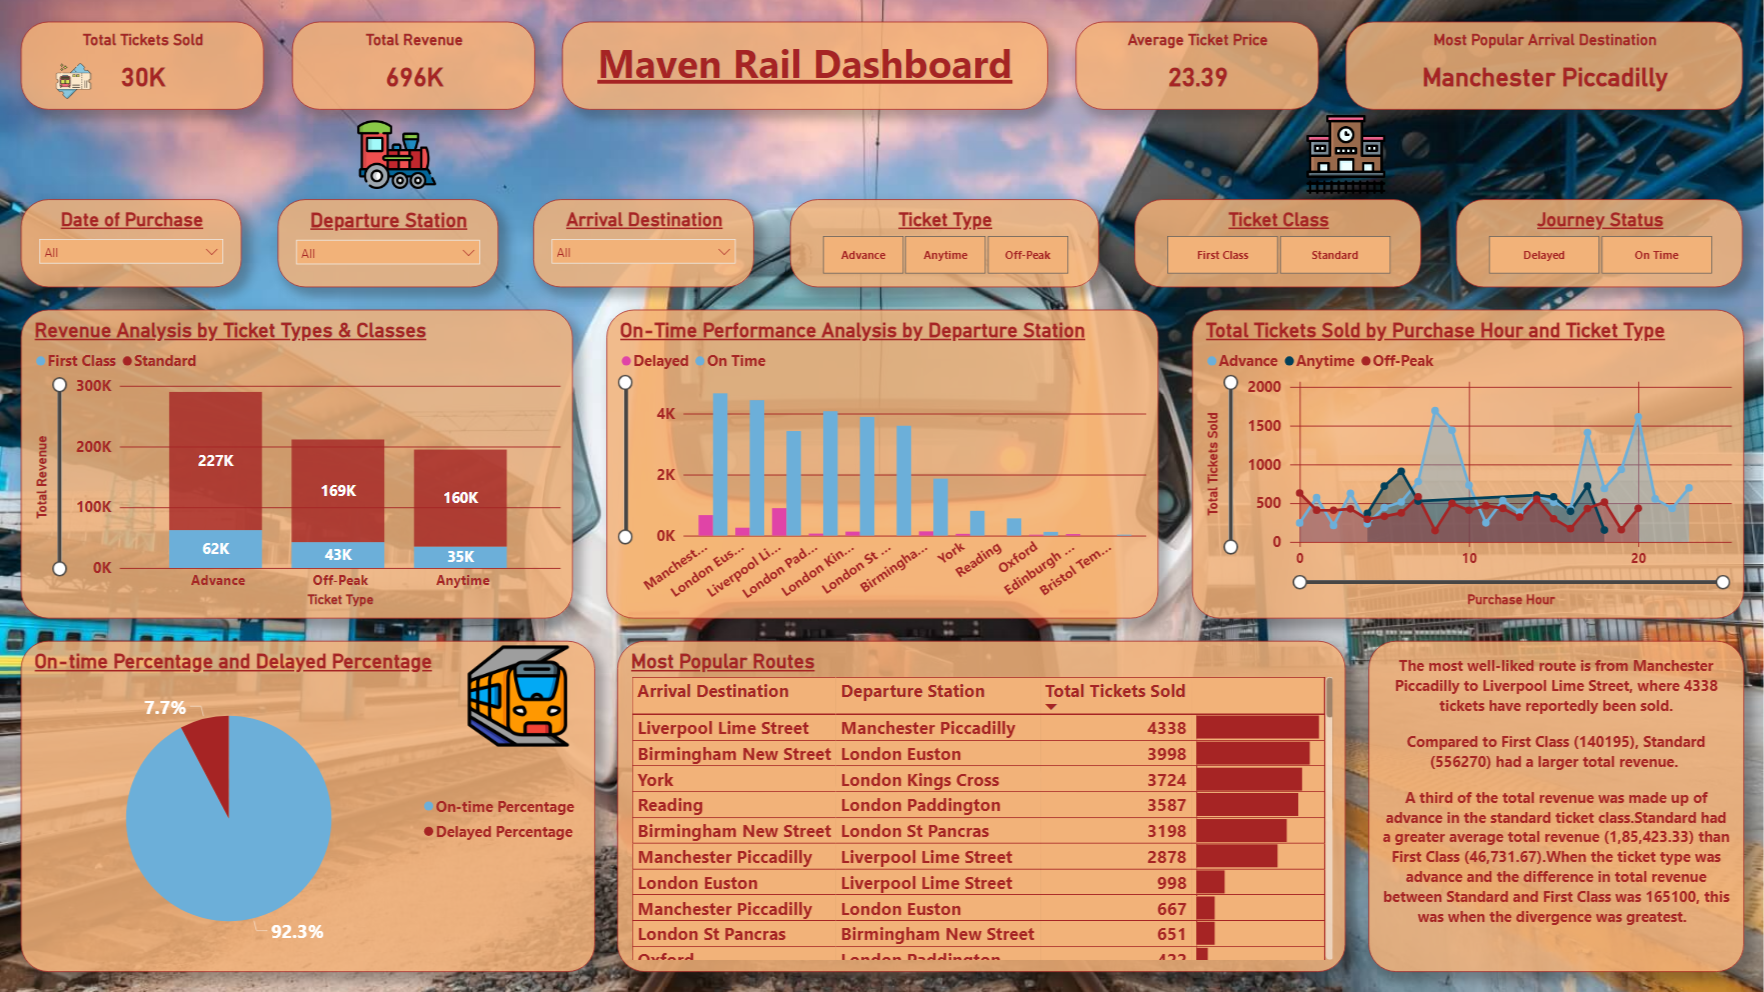

This screenshot's page, from the dashboard's own definition file:
{"tool":"powerbi","page":{"name":"Page 1","canvas":[1920,1080],"ordinal":0},"visuals":[{"type":"tableEx","title":"Most Popular Routes","fields":{"Values":["Table.Arrival Destination","Table.Departure Station","Table.Total Tickets Sold","Table.tal Tickets Sold"]},"box":[672,696,792,360],"z":0},{"type":"areaChart","fields":{"Category":["Table.Purchase Hour"],"Y":["Table.Total Tickets Sold"],"Series":["Table.Ticket Type"]},"box":[1296,336,600,336],"z":1000},{"type":"columnChart","title":"Revenue Analysis by Ticket Types & Classes","fields":{"Category":["Table.Ticket Type"],"Y":["Table.Total Revenue"],"Series":["Table.Ticket Class"]},"box":[24,336,600,336],"z":2000},{"type":"pieChart","fields":{"Y":["Table.On-time Percentage","Table.Delayed Percentage"]},"box":[24,696,624,360],"z":3000},{"type":"clusteredColumnChart","title":"On-Time Performance Analysis by Departure Station","fields":{"Series":["Table.Journey Status"],"Category":["Table.Departure Station"],"Y":["Table.Total Tickets Sold"]},"box":[660,336,600,336],"z":4000},{"type":"slicer","title":"Date of Purchase","fields":{"Values":["Table.Date of Purchase"]},"box":[24,216,240,96],"z":5000},{"type":"slicer","title":"Departure Station","fields":{"Values":["Table.Departure Station"]},"box":[302.4,216,240,96],"z":6000},{"type":"slicer","title":"Arrival Destination","fields":{"Values":["Table.Arrival Destination"]},"box":[580.8,216,240,96],"z":7000},{"type":"slicer","title":"Ticket Type","fields":{"Values":["Table.Ticket Type"]},"box":[859.2,216,336,96],"z":8000},{"type":"slicer","title":"Ticket Class","fields":{"Values":["Table.Ticket Class"]},"box":[1233.6,216,312,96],"z":9000},{"type":"slicer","title":"Journey Status","fields":{"Values":["Table.Journey Status"]},"box":[1584,216,312,96],"z":10000},{"type":"card","title":"Total Tickets Sold","fields":{"Values":["Table.Total Tickets Sold"]},"box":[24,24,264,96],"z":11000},{"type":"card","title":"Total Revenue","fields":{"Values":["Table.Total Revenue"]},"box":[318,24,264,96],"z":12000},{"type":"card","title":"Average Ticket Price","fields":{"Values":["Table.Average Ticket Price"]},"box":[1170,24,264,96],"z":13000},{"type":"card","title":"Most Popular Arrival Destination","fields":{"Values":["Table.Most Popular Departure Station"]},"box":[1464,24,432,96],"z":14000},{"type":"textbox","box":[1488,696,408,360],"z":15000},{"type":"textbox","box":[612,24,528,96],"z":15001},{"type":"image","box":[480,696,168,120],"z":15002},{"type":"image","box":[32,64,96,48],"z":15003},{"type":"image","box":[288,120,288,96],"z":15004},{"type":"image","box":[1320,120,288,96],"z":15005}]}

Visuals, with their boxes in screenshot pixels (x1, y1, x2, y2), scaled from the page's 1920x1080 canvas onto the 1764x992 screenshot:
"Most Popular Routes" tableEx: x1=617 y1=639 x2=1345 y2=970
areaChart - Table.Purchase Hour x Table.Total Tickets Sold: x1=1191 y1=309 x2=1742 y2=617
"Revenue Analysis by Ticket Types & Classes" columnChart: x1=22 y1=309 x2=573 y2=617
pieChart - Table.On-time Percentage x Table.Delayed Percentage: x1=22 y1=639 x2=595 y2=970
"On-Time Performance Analysis by Departure Station" clusteredColumnChart: x1=606 y1=309 x2=1158 y2=617
"Date of Purchase" slicer: x1=22 y1=198 x2=243 y2=287
"Departure Station" slicer: x1=278 y1=198 x2=498 y2=287
"Arrival Destination" slicer: x1=534 y1=198 x2=754 y2=287
"Ticket Type" slicer: x1=789 y1=198 x2=1098 y2=287
"Ticket Class" slicer: x1=1133 y1=198 x2=1420 y2=287
"Journey Status" slicer: x1=1455 y1=198 x2=1742 y2=287
"Total Tickets Sold" card: x1=22 y1=22 x2=265 y2=110
"Total Revenue" card: x1=292 y1=22 x2=535 y2=110
"Average Ticket Price" card: x1=1075 y1=22 x2=1317 y2=110
"Most Popular Arrival Destination" card: x1=1345 y1=22 x2=1742 y2=110
textbox: x1=1367 y1=639 x2=1742 y2=970
textbox: x1=562 y1=22 x2=1047 y2=110
image: x1=441 y1=639 x2=595 y2=750
image: x1=29 y1=59 x2=118 y2=103
image: x1=265 y1=110 x2=529 y2=198
image: x1=1213 y1=110 x2=1477 y2=198
